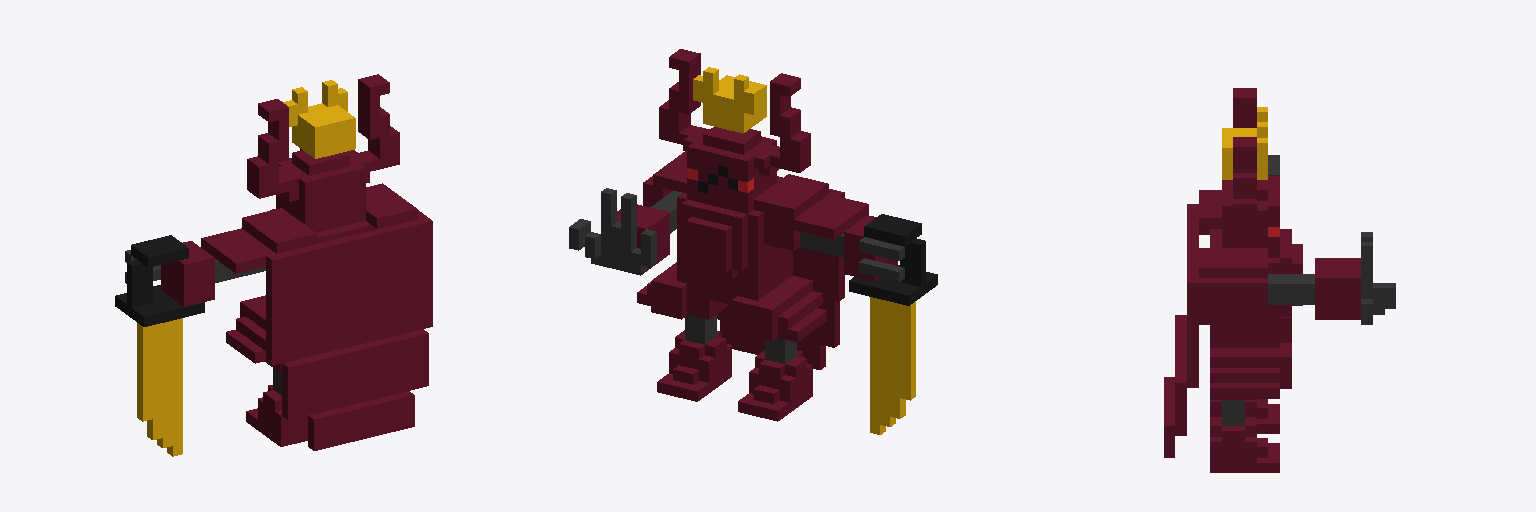
3 views of the same model, side by side, from view 1: azimuth 30°, elevation 25°; view 2: azimuth 150°, elevation 25°; view 3: azimuth 270°, elevation 25° (orthographic).
Parts seen in each view (by area): view 1: cube; view 2: cube; view 3: cube.
Boxes of the visible parts, x1,y1,x2,y2 form: cube: [115, 74, 432, 456]; cube: [569, 49, 937, 434]; cube: [1164, 88, 1395, 472].
Size of the model in its own units: 28 by 31 by 20.
Materials: 1 (1 with a texture image).